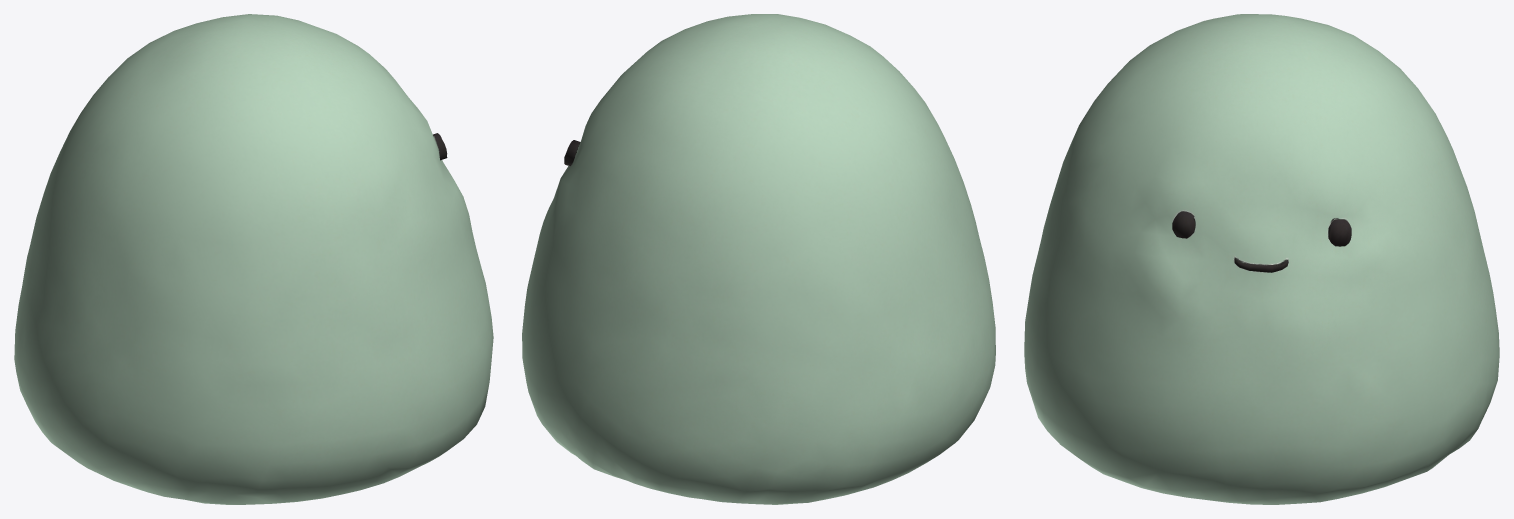
The model's file is blob.glb.
3 views of the same model, side by side, from view 1: azimuth 30°, elevation 25°; view 2: azimuth 150°, elevation 25°; view 3: azimuth 270°, elevation 25° (orthographic).
Visible parts, largest first — view 1: tripo_node_9b114ae6-0865-4688-ae92-a5018eb4b660; view 2: tripo_node_9b114ae6-0865-4688-ae92-a5018eb4b660; view 3: tripo_node_9b114ae6-0865-4688-ae92-a5018eb4b660.
Boxes of the visible parts, x1,y1,x2,y2 form: tripo_node_9b114ae6-0865-4688-ae92-a5018eb4b660: [14, 14, 493, 504]; tripo_node_9b114ae6-0865-4688-ae92-a5018eb4b660: [522, 14, 995, 504]; tripo_node_9b114ae6-0865-4688-ae92-a5018eb4b660: [1024, 14, 1499, 504].
Size of the model in its own units: 0.998 by 0.9824 by 0.998.
Materials: 1 (1 with a texture image).
